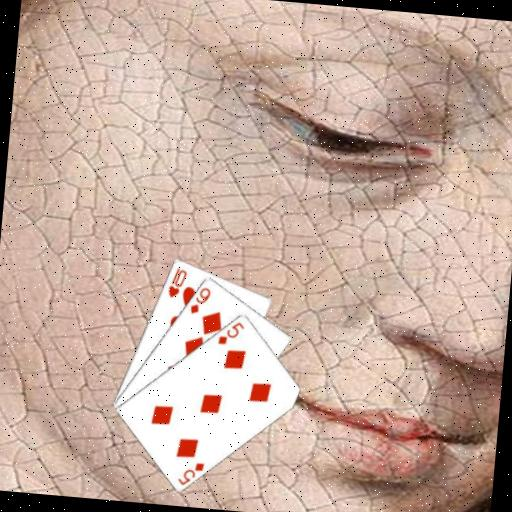10H: (165, 264, 189, 300)
5D: (174, 458, 206, 489), (215, 317, 246, 348)
9D: (187, 283, 213, 316)
